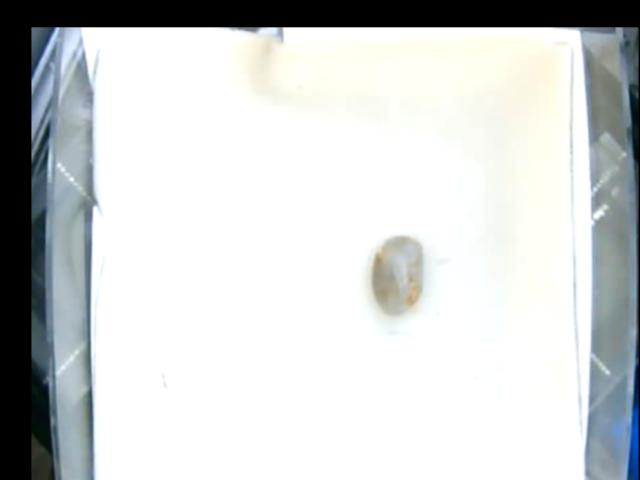Pebble: (372, 236, 424, 316)
